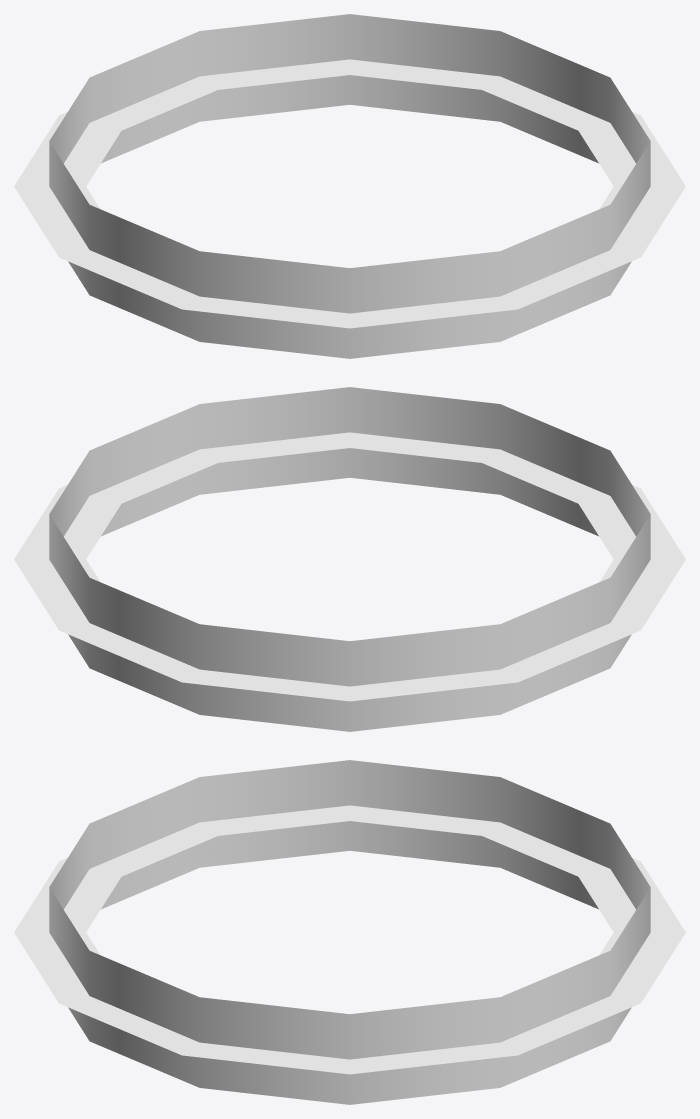
File: E_Stun.FBX
3 views of the same model, one above another, from view 1: azimuth 30°, elevation 25°; view 2: azimuth 150°, elevation 25°; view 3: azimuth 270°, elevation 25° (orthographic).
Visible parts, largest first — view 1: stun; view 2: stun; view 3: stun.
Boxes of the visible parts, bbox=[...] form: stun: bbox=[14, 14, 685, 358]; stun: bbox=[14, 387, 685, 731]; stun: bbox=[14, 760, 685, 1104].
Bounding box in the file's own units: 112 × 16.65 × 112.
